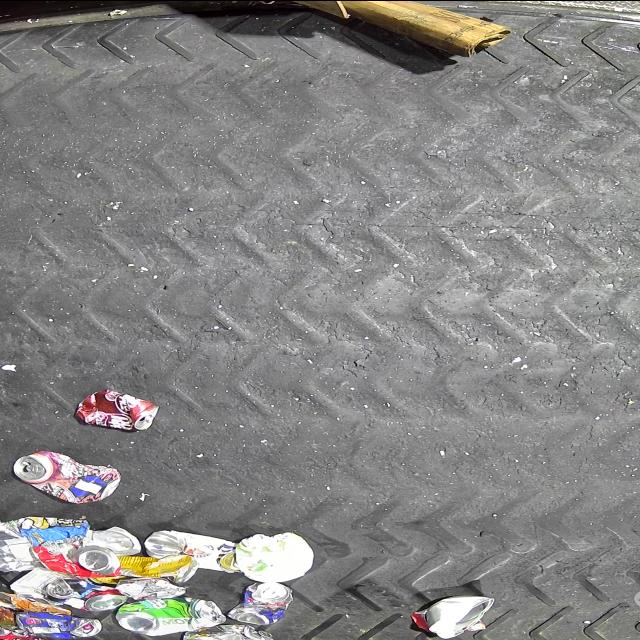can: (12, 449, 122, 503), (115, 596, 227, 636), (144, 528, 243, 572), (74, 388, 160, 432), (32, 535, 122, 577), (89, 554, 200, 583), (227, 582, 294, 624), (16, 611, 102, 639), (0, 521, 37, 572), (64, 582, 128, 610), (86, 526, 142, 556), (183, 623, 275, 640), (44, 577, 84, 603), (0, 623, 59, 639)
